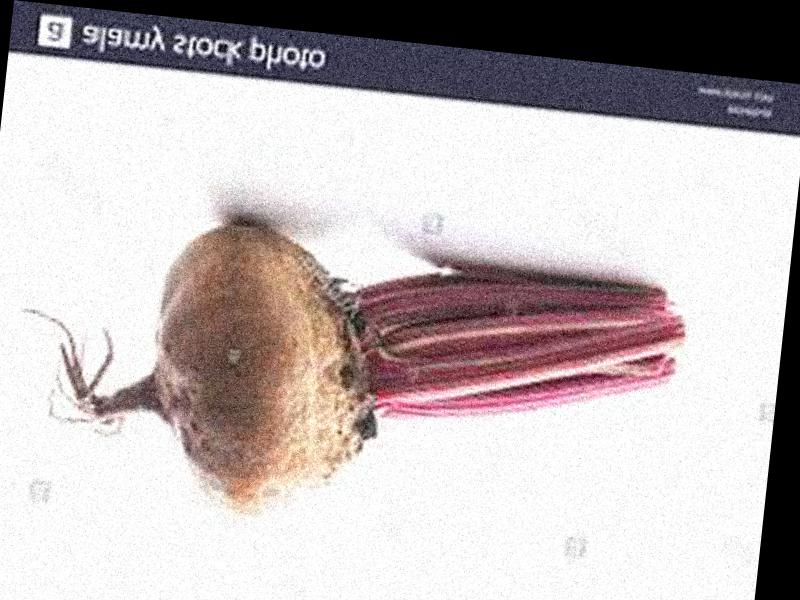Beet: (3, 199, 692, 556)
